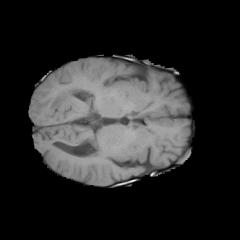glioma: (50, 87, 90, 111)
